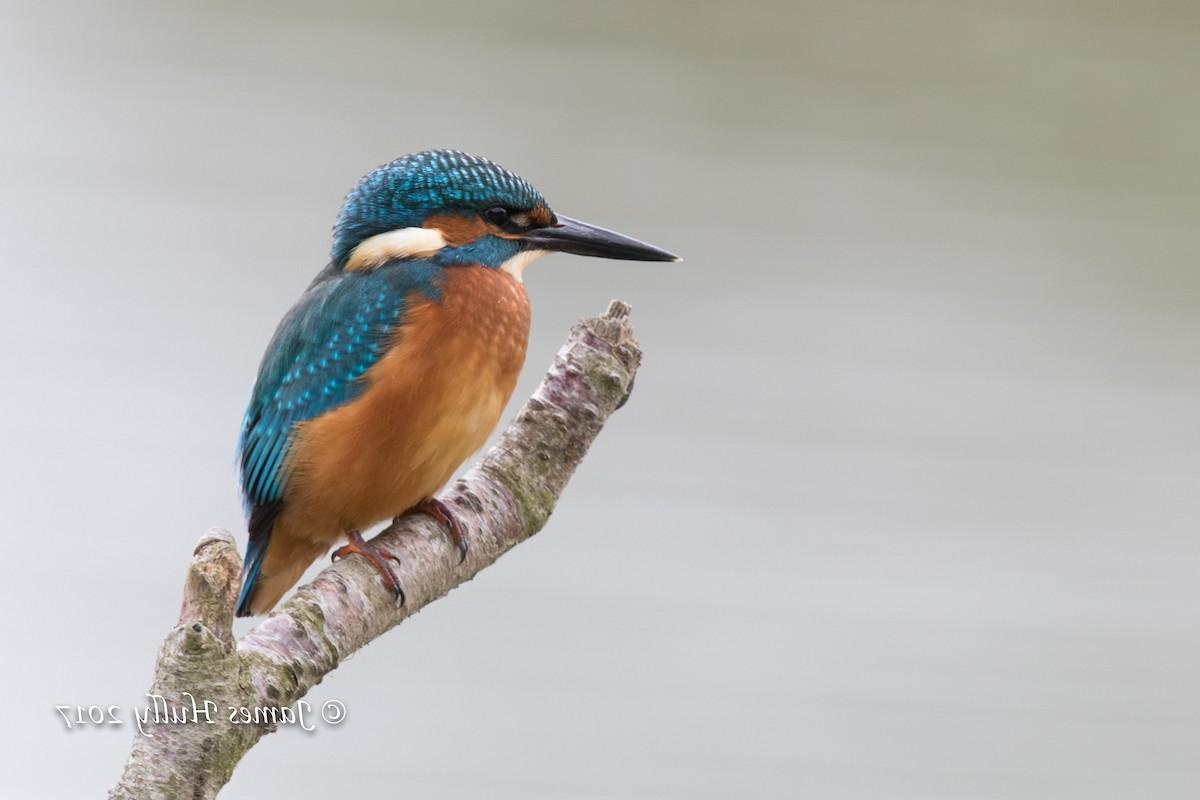kingfisher: (210, 156, 695, 635)
